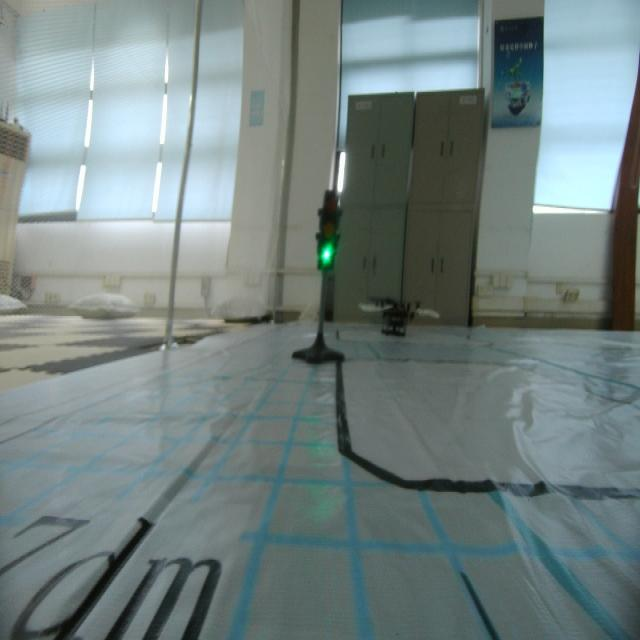green: (318, 189, 340, 274)
